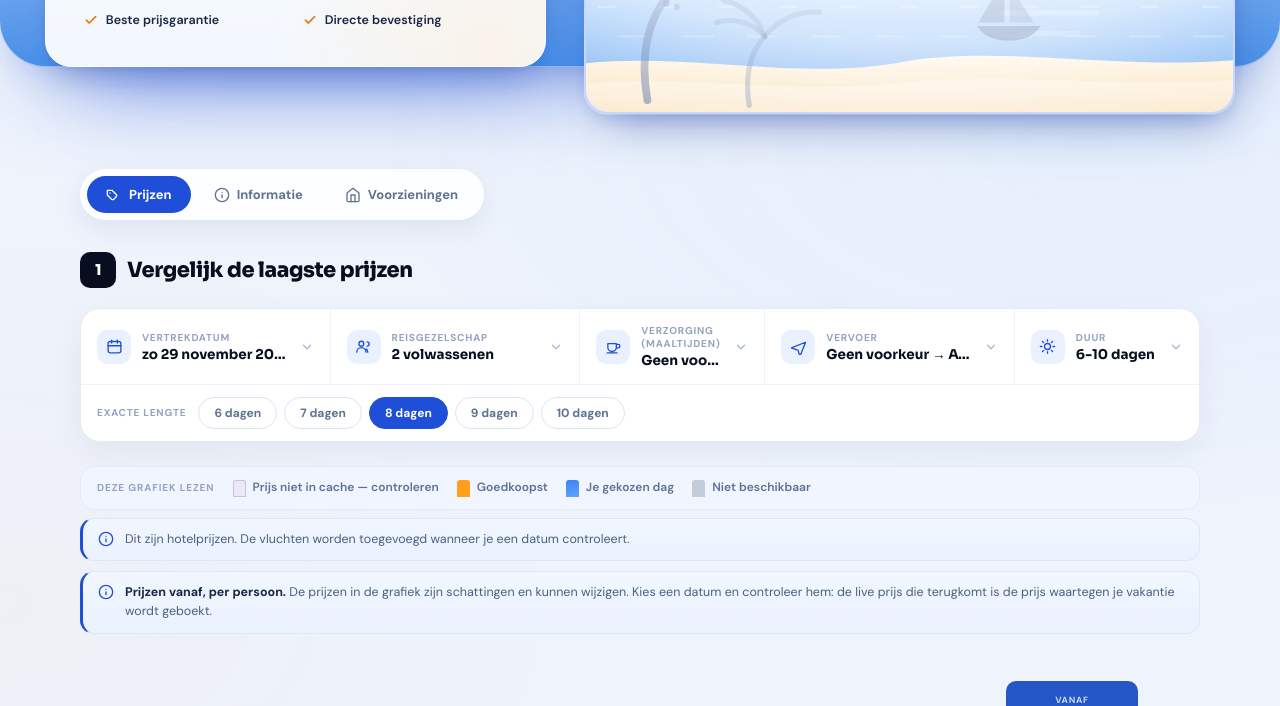
Test: Care (meals) offers what the hotel sells › says it cannot know the meal plans until a date has been checked
(page scrolled)
Click the button "Verzorging (maaltijden) Geen voorkeur": click(672, 347) [580,309,764,384]
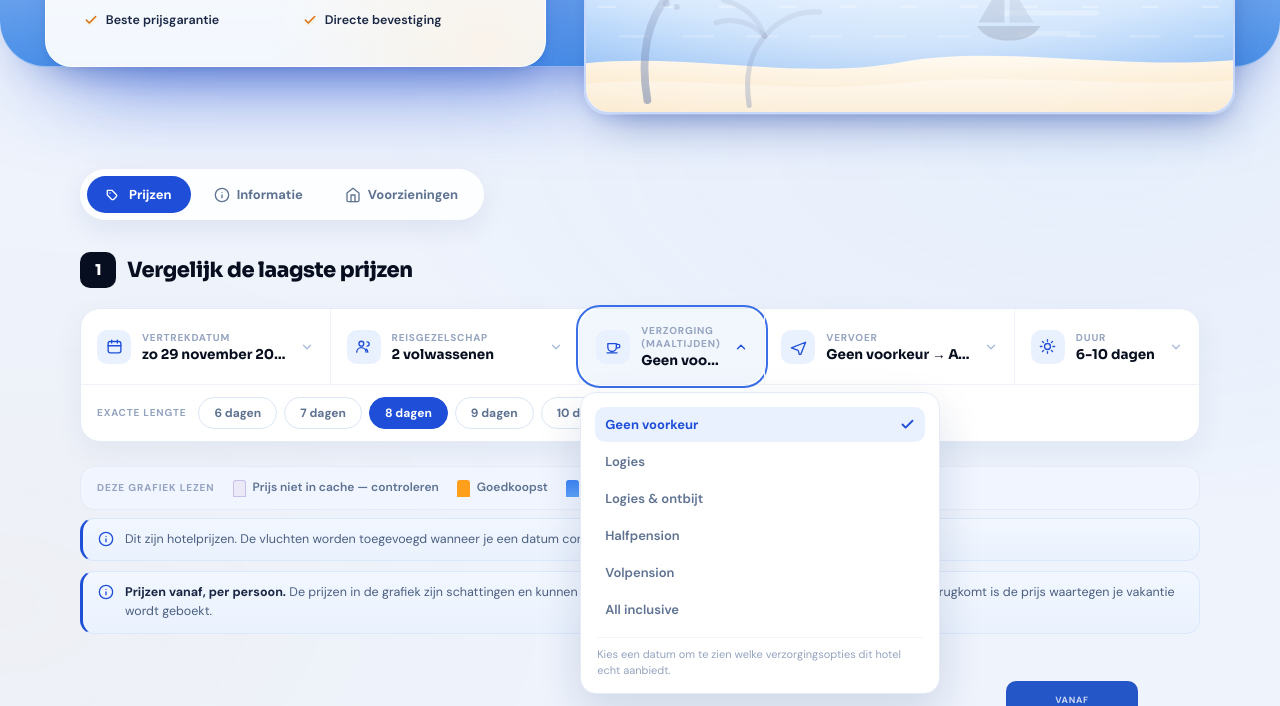
Check: the dialog named "verzorging (maaltijden)" shows "kies een datum om te zien welke verzorgingsopties", box [597,647,901,677]
